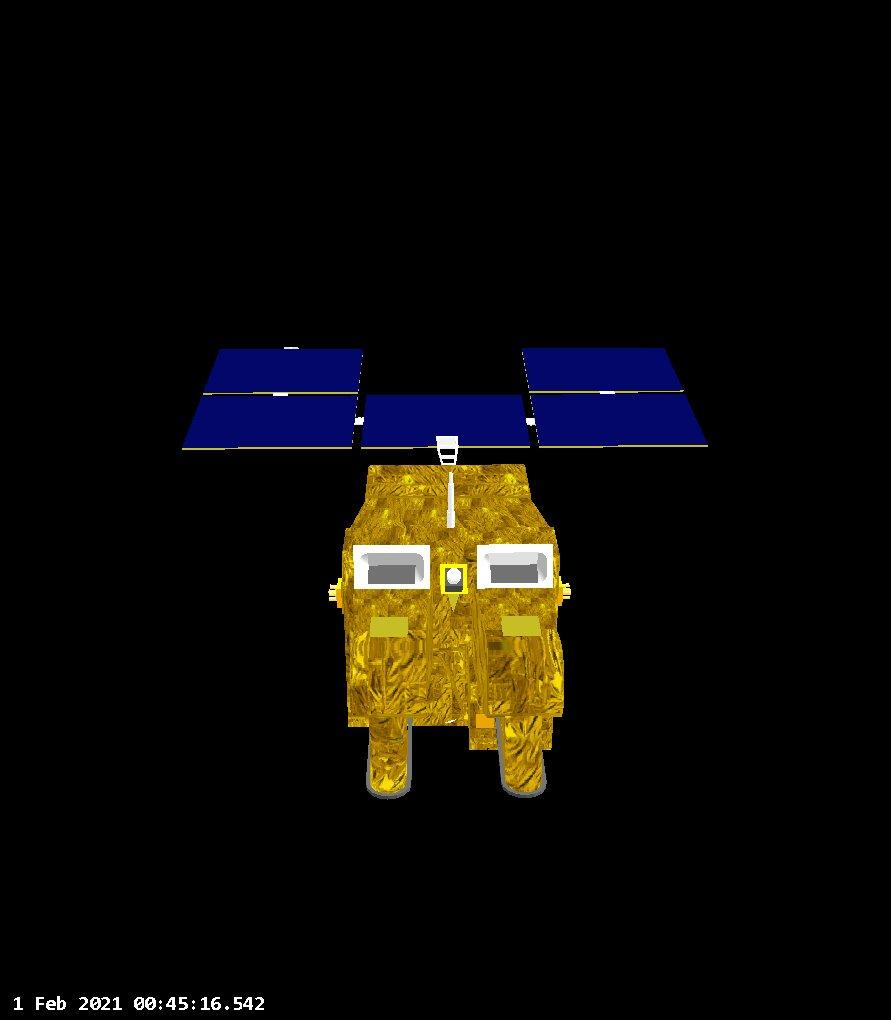antenna: (443, 466, 459, 536), (442, 559, 467, 599)
body: (336, 457, 569, 731)
solar: (181, 341, 713, 452)
